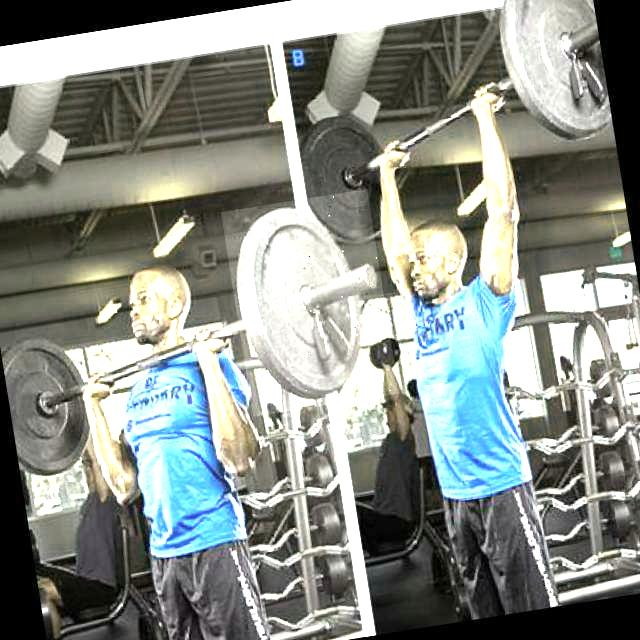barbell: (222, 190, 400, 417)
